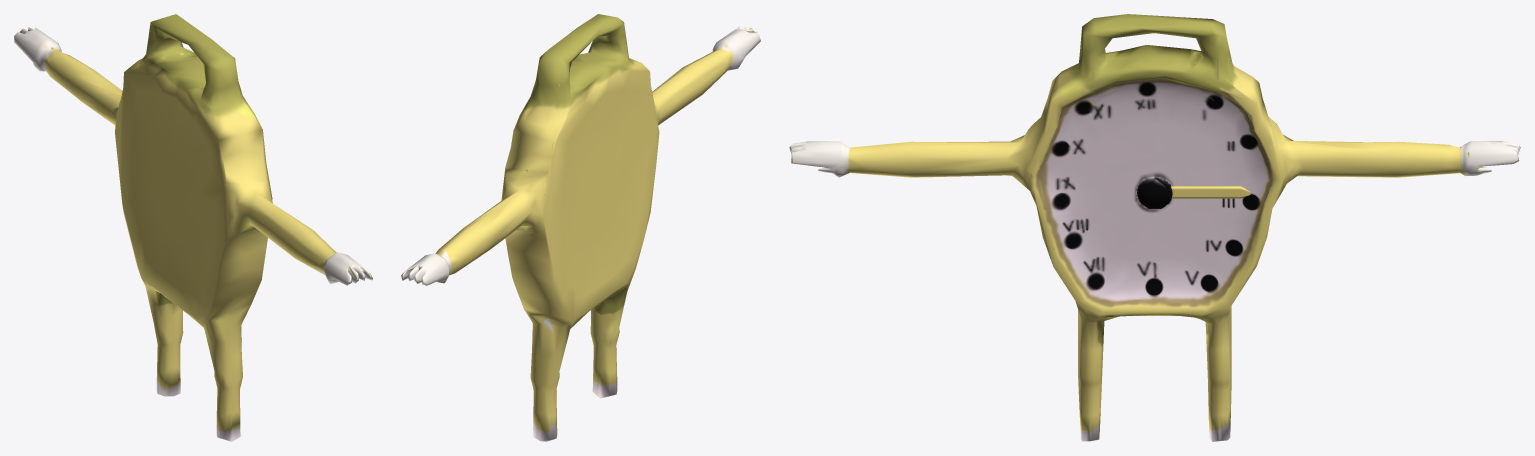
File: Boss.fbx
3 views of the same model, side by side, from view 1: azimuth 30°, elevation 25°; view 2: azimuth 150°, elevation 25°; view 3: azimuth 270°, elevation 25° (orthographic). The views are drawn at different scales.
Visible parts, largest first — view 1: Cube; view 2: Cube; view 3: Cube, Cube.001.
Part boxes in pixels (x1,y1,x2,y2): Cube: (14,14,372,441); Cube: (401,14,760,441); Cube: (789,14,1520,441); Cube.001: (1171,186,1250,198).
Size of the model in its own units: 130 by 1064 by 1679.
1 material, 1 textured.
